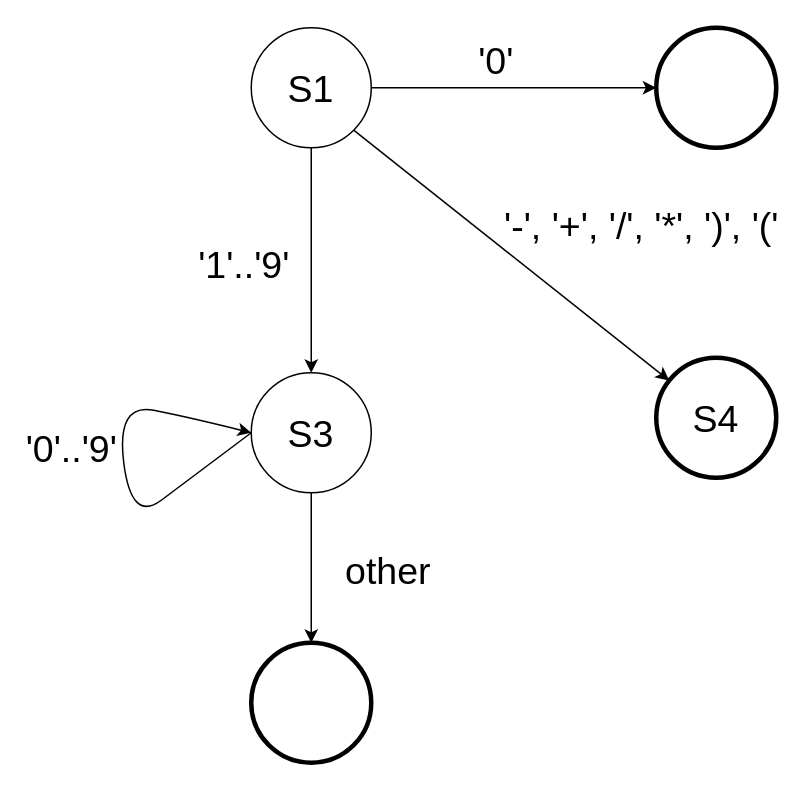
Some shapes in this 804 by 791 pixel diagram are drawn without their labels. Here are the shapes that lost their labels. From the top down, the centre of each, then its label:
At point 715,87: "S2".
At point 310,702: "S5".
